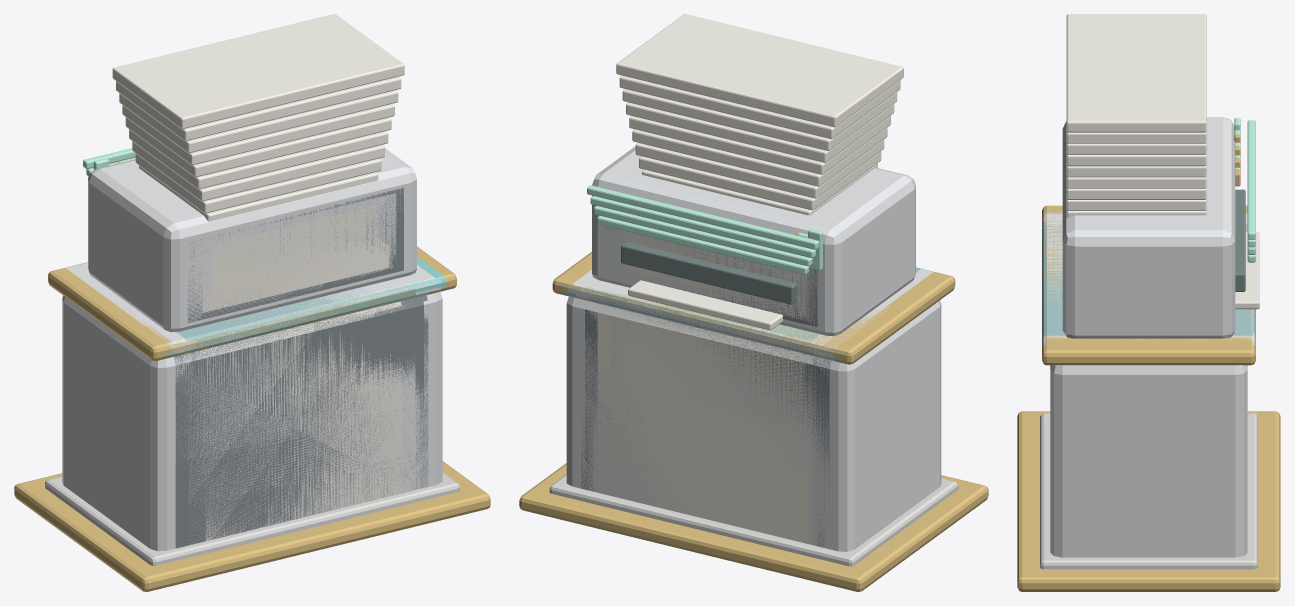
File: Gear14.fbx
The picture shows the model from 3 angles, left to right: view 1: azimuth 30°, elevation 25°; view 2: azimuth 150°, elevation 25°; view 3: azimuth 270°, elevation 25°; orthographic projection.
Visible parts, largest first — view 1: Gear14_V10_Platinum, Gear14_V8_Graphite, Gear14_V2_Ivory, Gear14_V10_Linen, Gear14_V5_Platinum, Gear14_V10_Gold, Gear14_V7_Graphite, Gear14_V1_Ivory, Gear14_V6_Platinum, Gear14_V4_Linen, Gear14_V9_Gold, Gear14_V10_Chrome (+14 smaller); view 2: Gear14_V10_Platinum, Gear14_V3_Linen, Gear14_V4_Linen, Gear14_V10_Linen, Gear14_V10_Gold, Gear14_V1_Ivory, Gear14_V5_Platinum, Gear14_V9_Gold, Gear14_V8_Graphite, Gear14_V2_Ivory, Gear14_V8_Linen, Gear14_V9_Linen (+23 smaller); view 3: Gear14_V10_Platinum, Gear14_V10_Linen, Gear14_V10_Gold, Gear14_V9_Gold, Gear14_V10_Chrome, Gear14_V3_Blue, Gear14_V7_Linen, Gear14_V9_Linen, Gear14_V4_Linen, Gear14_V5_Linen, Gear14_V6_Linen, Gear14_V8_Linen (+10 smaller).
Boxes of the visible parts, x1,y1,x2,y2 form: Gear14_V10_Platinum: [62, 148, 442, 551]; Gear14_V8_Graphite: [174, 187, 428, 548]; Gear14_V2_Ivory: [200, 203, 402, 526]; Gear14_V10_Linen: [112, 14, 404, 128]; Gear14_V5_Platinum: [177, 222, 415, 544]; Gear14_V10_Gold: [14, 246, 490, 591]; Gear14_V7_Graphite: [178, 190, 423, 450]; Gear14_V1_Ivory: [205, 206, 396, 540]; Gear14_V6_Platinum: [116, 193, 437, 493]; Gear14_V4_Linen: [132, 141, 403, 356]; Gear14_V9_Gold: [23, 287, 483, 590]; Gear14_V10_Chrome: [45, 472, 459, 565]; Gear14_V10_Platinum: [566, 146, 941, 551]; Gear14_V3_Linen: [603, 151, 881, 543]; Gear14_V4_Linen: [597, 139, 884, 544]; Gear14_V10_Linen: [616, 14, 903, 330]; Gear14_V10_Gold: [519, 252, 988, 591]; Gear14_V1_Ivory: [610, 232, 801, 500]; Gear14_V5_Platinum: [576, 229, 826, 545]; Gear14_V9_Gold: [526, 272, 979, 590]; Gear14_V8_Graphite: [581, 227, 830, 490]; Gear14_V2_Ivory: [606, 231, 804, 460]; Gear14_V8_Linen: [622, 89, 897, 328]; Gear14_V9_Linen: [619, 75, 900, 327]; Gear14_V10_Platinum: [1050, 117, 1247, 557]; Gear14_V10_Linen: [1066, 14, 1259, 309]; Gear14_V10_Gold: [1017, 205, 1280, 591]; Gear14_V9_Gold: [1017, 208, 1280, 578]; Gear14_V10_Chrome: [1040, 413, 1257, 569]; Gear14_V3_Blue: [1042, 221, 1255, 339]; Gear14_V7_Linen: [1066, 154, 1259, 298]; Gear14_V9_Linen: [1066, 131, 1259, 301]; Gear14_V4_Linen: [1066, 187, 1259, 295]; Gear14_V5_Linen: [1066, 176, 1259, 275]; Gear14_V6_Linen: [1066, 165, 1245, 237]; Gear14_V8_Linen: [1066, 142, 1206, 154].
Bounding box in the file's own units: 97.6 × 118 × 64.
